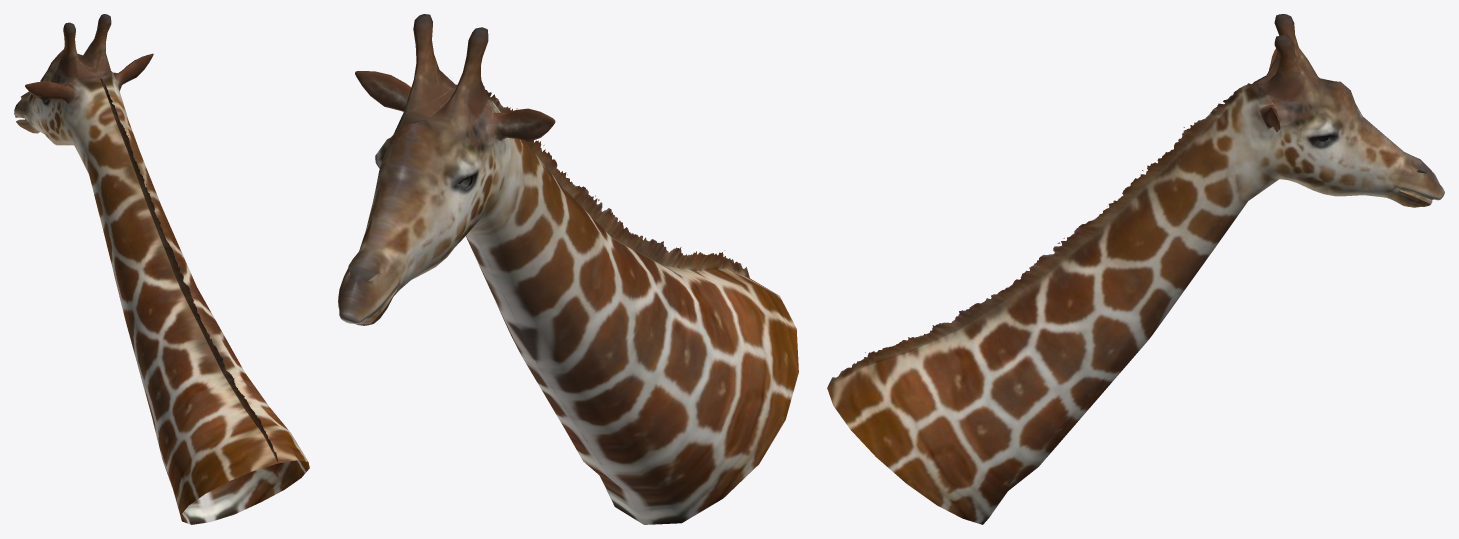
File: j_Head.obj
3 renders of one model, left to right at view 1: azimuth 30°, elevation 25°; view 2: azimuth 150°, elevation 25°; view 3: azimuth 270°, elevation 25°, orthographic. The views are drawn at different scales.
Parts seen in each view (by area): view 1: cabeza; view 2: cabeza; view 3: cabeza.
Part boxes in pixels (x1=…): cabeza: x1=14, y1=14, x2=309, y2=524; cabeza: x1=338, y1=14, x2=798, y2=524; cabeza: x1=827, y1=14, x2=1444, y2=524.
Size of the model in its own units: 1.17 by 3.57 by 4.06.
2 materials, 1 textured.
